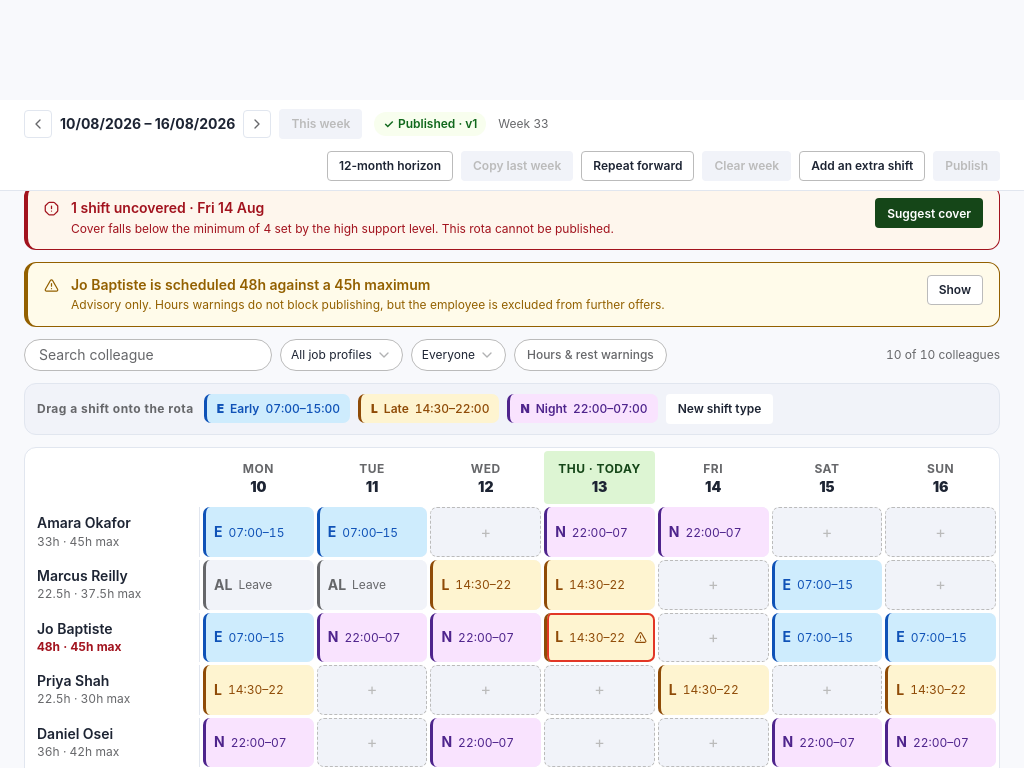
Test: Team rota › the horizon lists the months ahead, and publishing through it says it is simulated and writes nothing
Click the button with test id "trota-horizon" at [390, 166], box [327, 151, 453, 181]
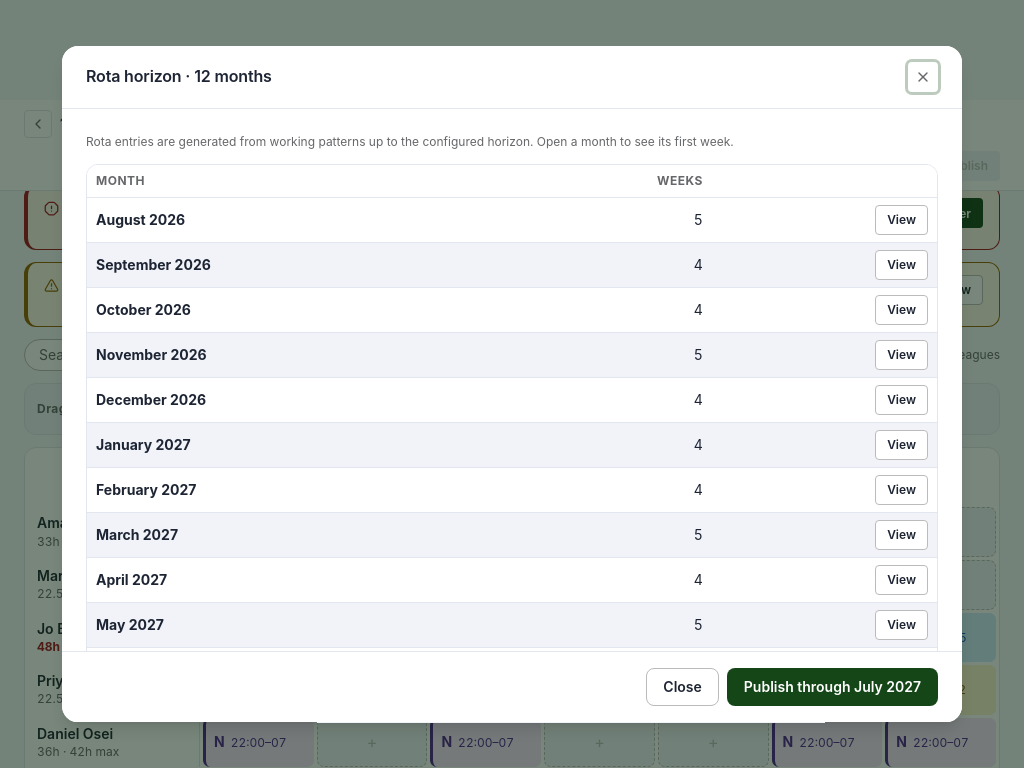
Result: the heading with test id "modal-title" reads "Rota horizon · 12 months" at [86, 66, 272, 86]
Click the button with test id "trota-horizon-publish" at [832, 687], box [727, 668, 938, 706]
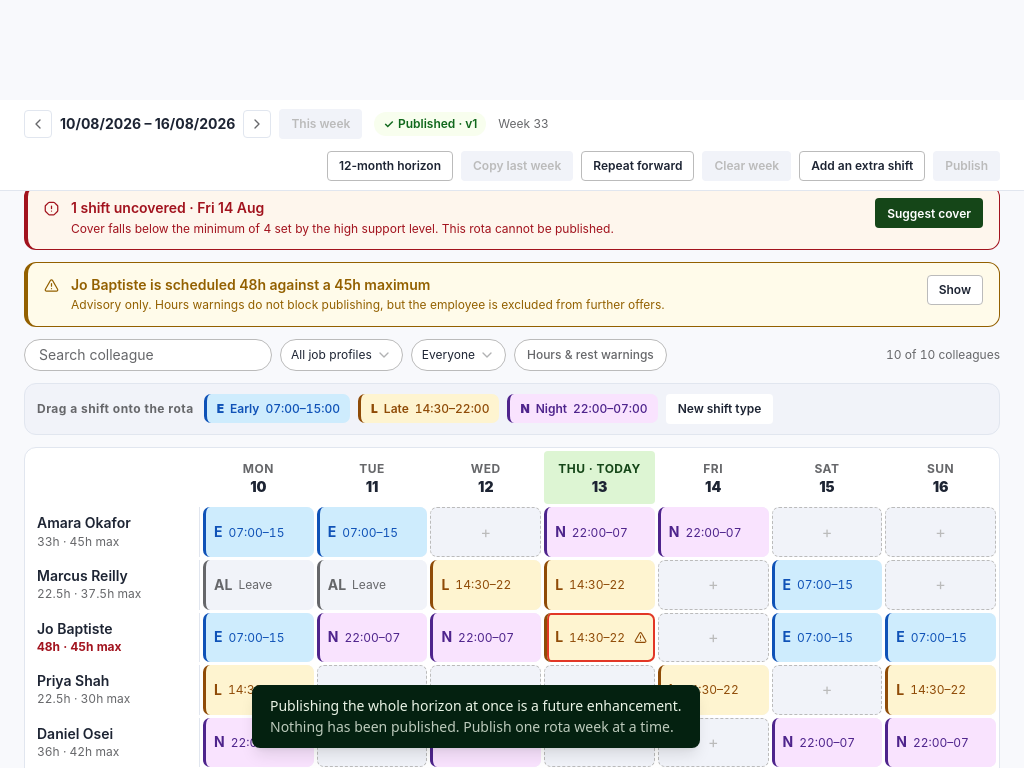
Result: the message with test id "toast-info" shows "Publishing the whole horizon at once is a future enhancement." at [270, 696, 682, 715]
Result: the dialog with test id "modal" is gone
